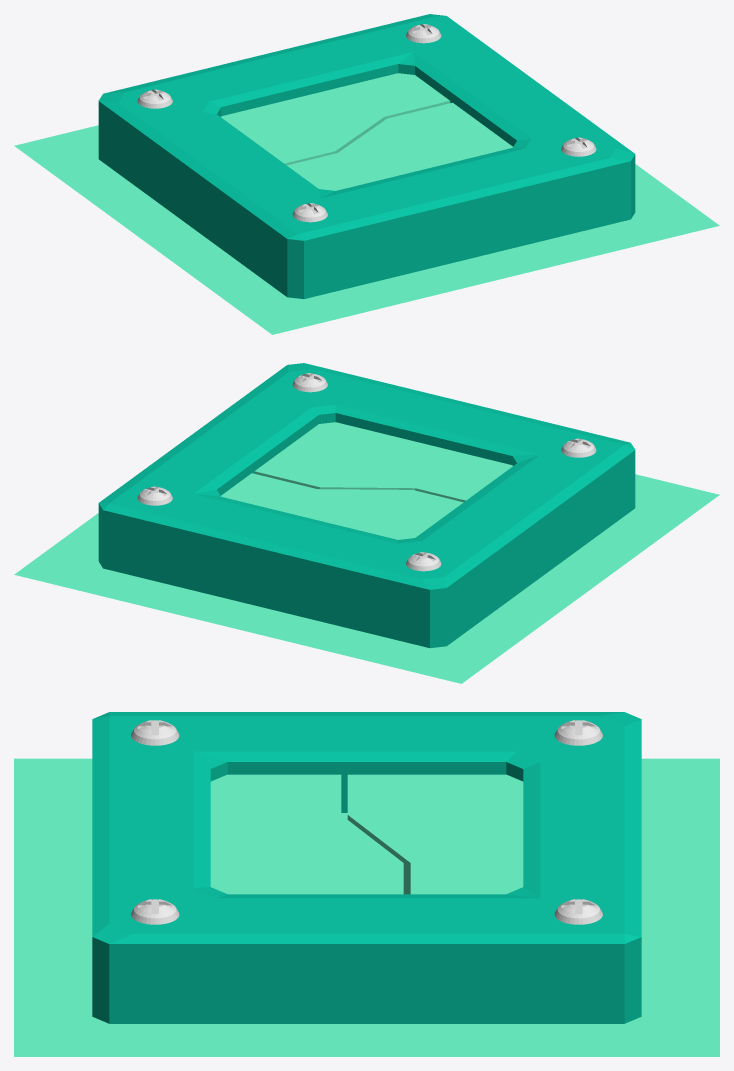
Rendered from Underground entrance_green.fbx.
3 renders of one model, top to bottom at view 1: azimuth 30°, elevation 25°; view 2: azimuth 150°, elevation 25°; view 3: azimuth 270°, elevation 25°, orthographic. The views are drawn at different scales.
Visible parts, largest first — view 1: Cube.025, Plane, Cube.026, Cylinder.002, Cylinder.001, Cylinder, Cylinder.003; view 2: Cube.025, Plane, Cube.026, Cylinder, Cylinder.003, Cylinder.002, Cylinder.001; view 3: Cube.025, Plane, Cube.026, Cylinder, Cylinder.002, Cylinder.001, Cylinder.003.
Boxes of the visible parts, x1,y1,x2,y2 form: Cube.025: (98, 14, 635, 299); Plane: (14, 125, 719, 334); Cube.026: (221, 73, 512, 190); Cylinder.002: (561, 137, 596, 156); Cylinder.001: (137, 89, 172, 108); Cylinder: (406, 24, 441, 43); Cylinder.003: (292, 203, 327, 222); Cube.025: (98, 363, 635, 648); Plane: (14, 474, 719, 683); Cube.026: (221, 422, 512, 539); Cylinder: (137, 486, 172, 505); Cylinder.003: (561, 438, 596, 457); Cylinder.002: (292, 373, 327, 392); Cylinder.001: (406, 552, 441, 571); Cube.025: (92, 712, 641, 1023); Plane: (14, 758, 719, 1056); Cube.026: (210, 774, 523, 894); Cylinder: (554, 899, 602, 924); Cylinder.002: (131, 899, 179, 924); Cylinder.001: (554, 720, 602, 745); Cylinder.003: (131, 720, 179, 745).
Bounding box in the file's own units: 1000 × 172 × 1000.
